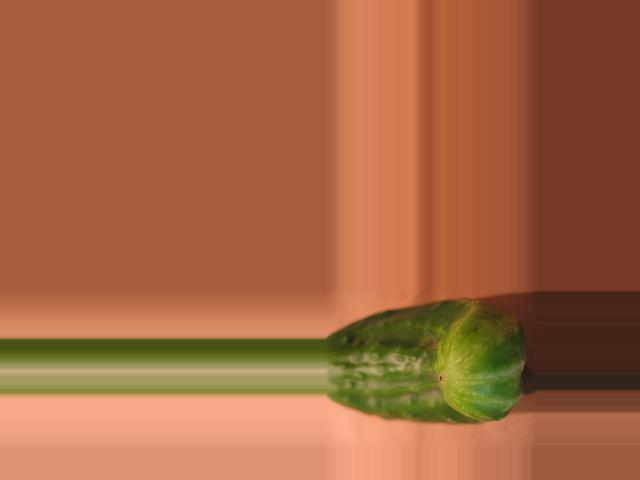cucumber: (325, 299, 524, 425)
